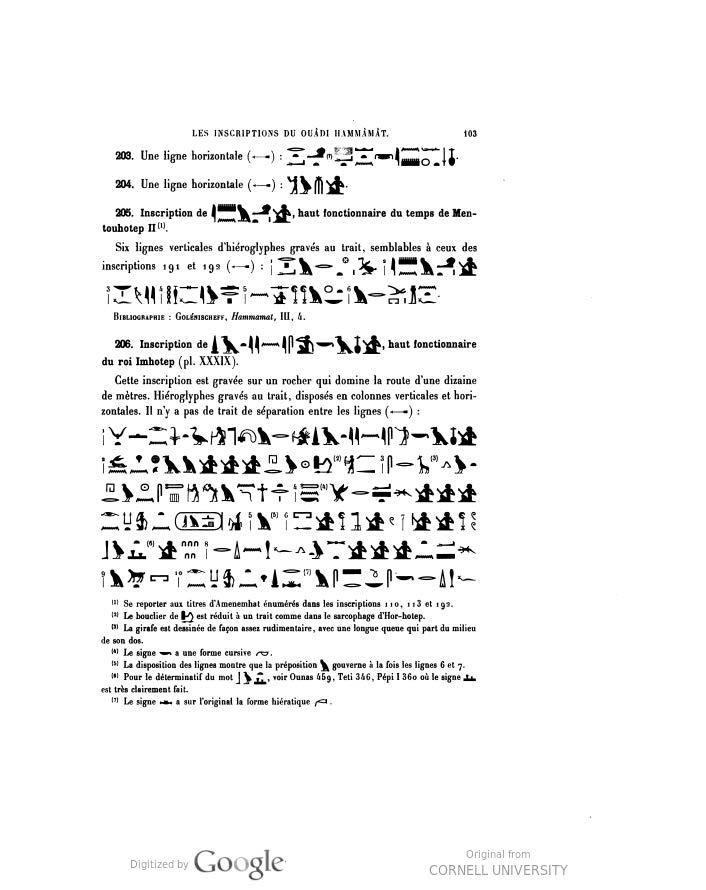circle: (171, 507, 229, 536)
